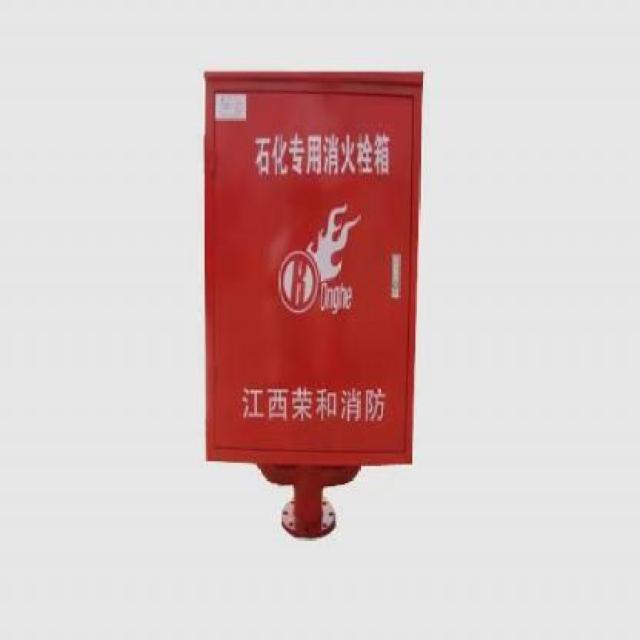firehydrant: (200, 62, 428, 469)
